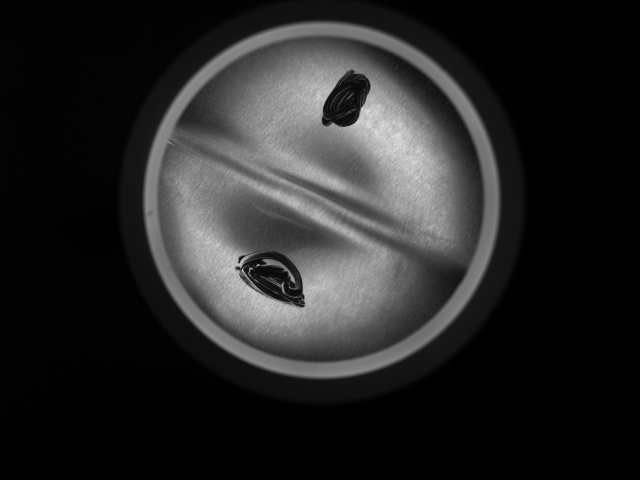zang_wu: (234, 248, 313, 310), (318, 69, 377, 132)
zhe_zhou: (199, 69, 440, 333)
